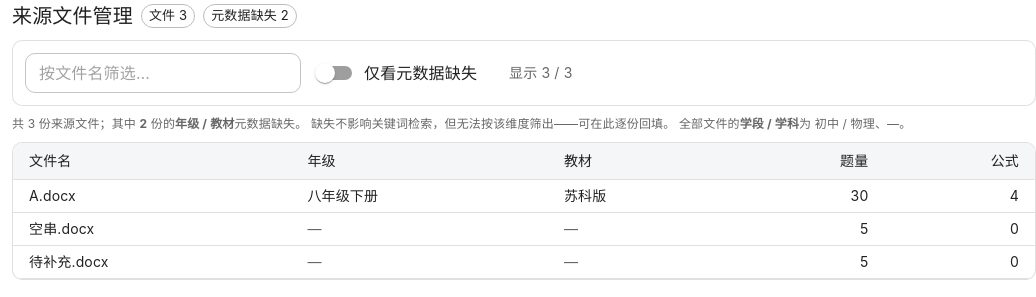
Test: B4-3 来源文件 › NULL / 空串 /「待补充」均进入缺失筛选，正常值不误判；缺失单元格用「—」
The image size is (1036, 297).
expect the text "A.docx" is shown: met, box [13,180,291,213]
expect the text "空串.docx" is shown: met, box [13,213,291,246]
开启「仅看元数据缺失」→ 仅正常值 A.docx 被过滤掉。
What coordinates should you click on to do the following:
click the checkbox
I would click on:
 (396, 73)
Its box is [315,63,477,83].
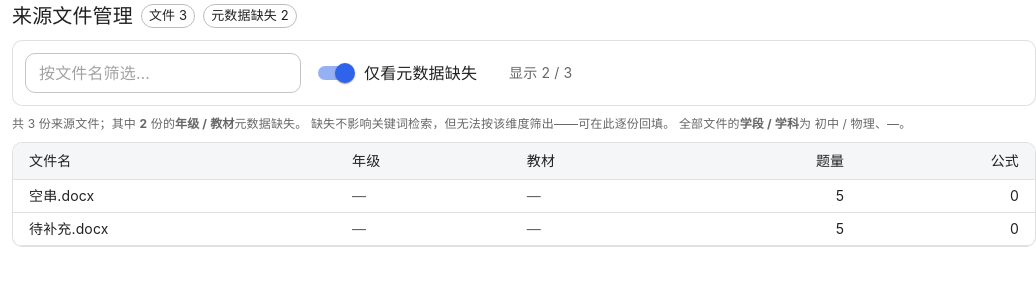
expect the text "空串.docx" is shown: met, box [13,180,336,213]
expect the text "A.docx" is gone: met
